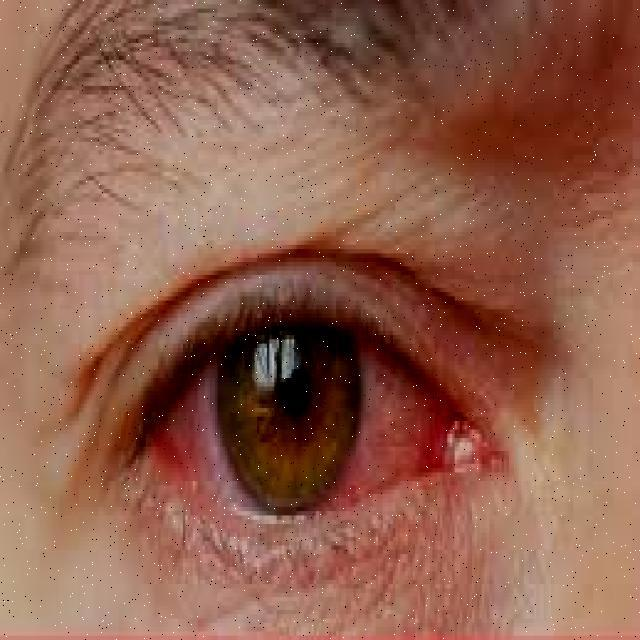Conjunctivitis: (121, 314, 490, 536)
